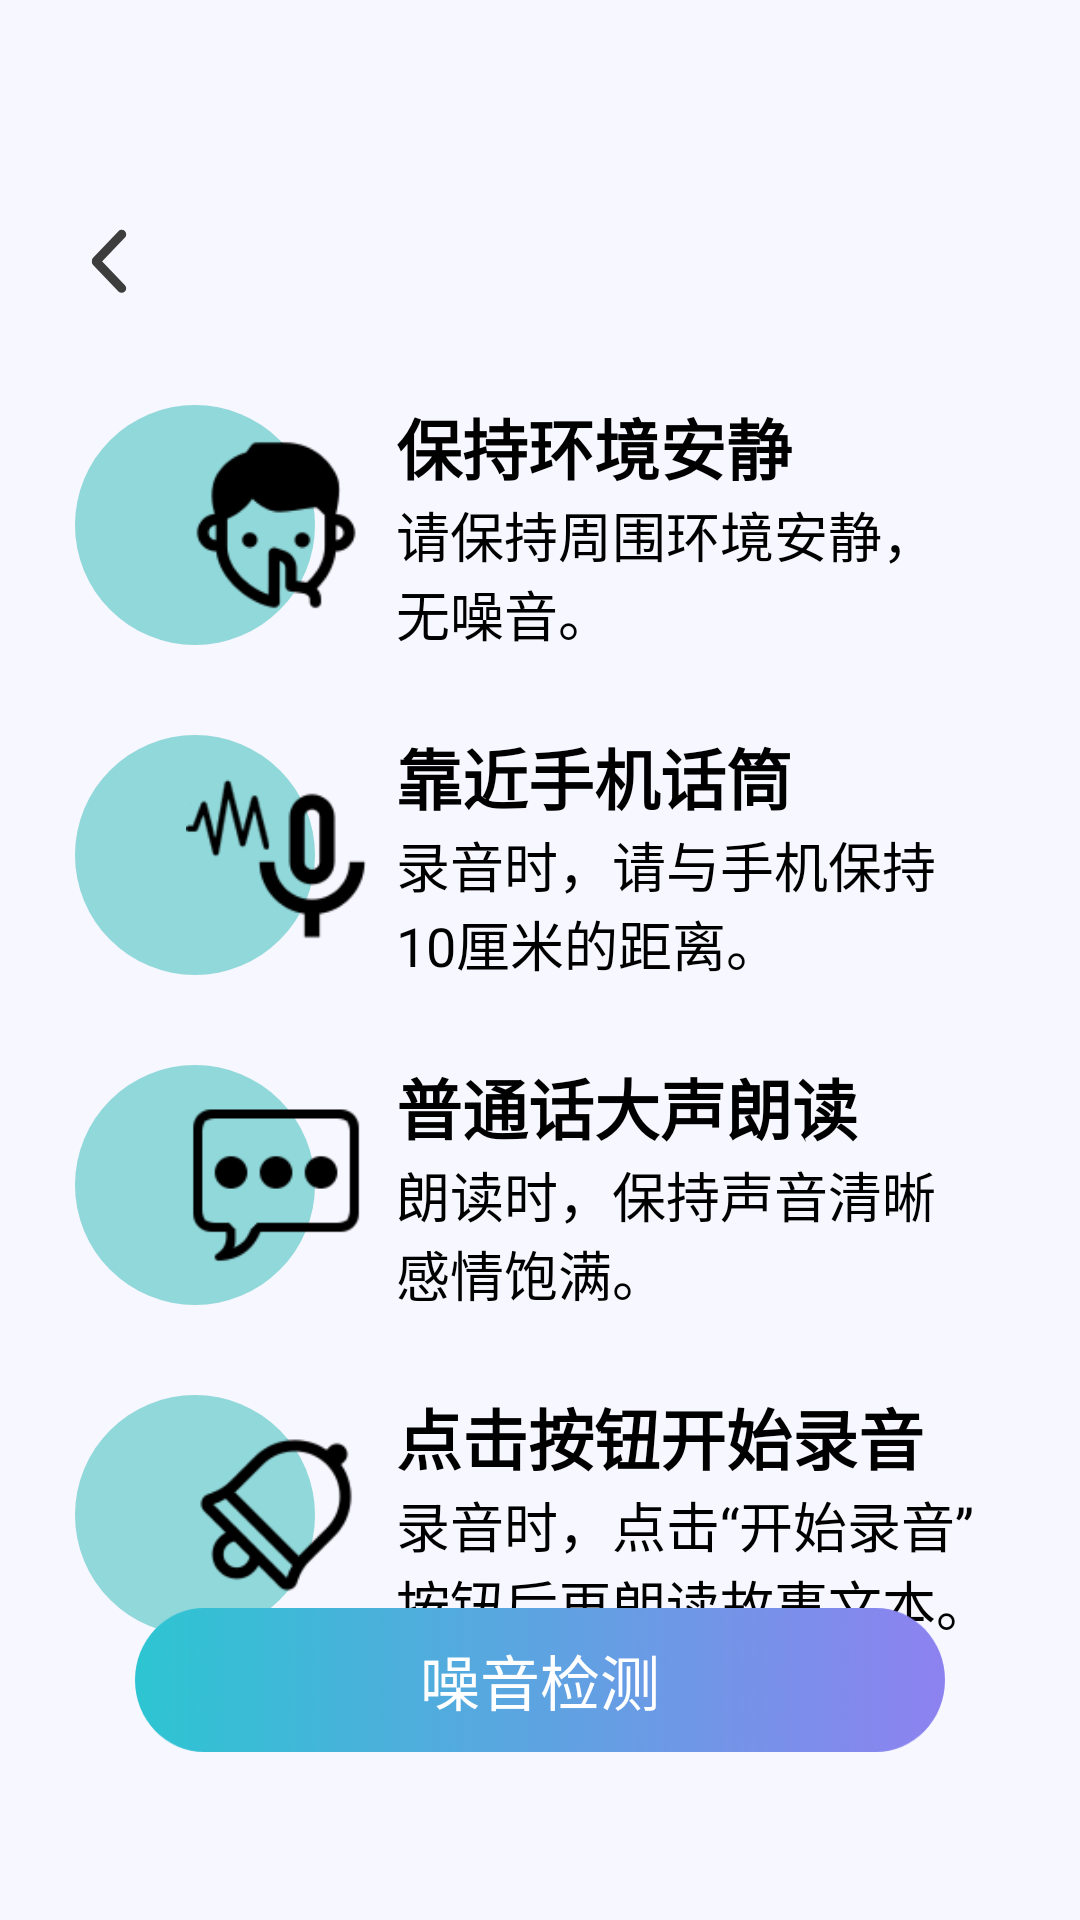

Icon bounding boxes for this 1080x1920 phone screenshot, format bbox=[x1, y1, x2, y2]:
back: bbox=[92, 229, 127, 293]
record tip: bbox=[75, 405, 356, 645], bbox=[75, 735, 366, 975], bbox=[75, 1065, 360, 1305], bbox=[75, 1395, 366, 1635]
